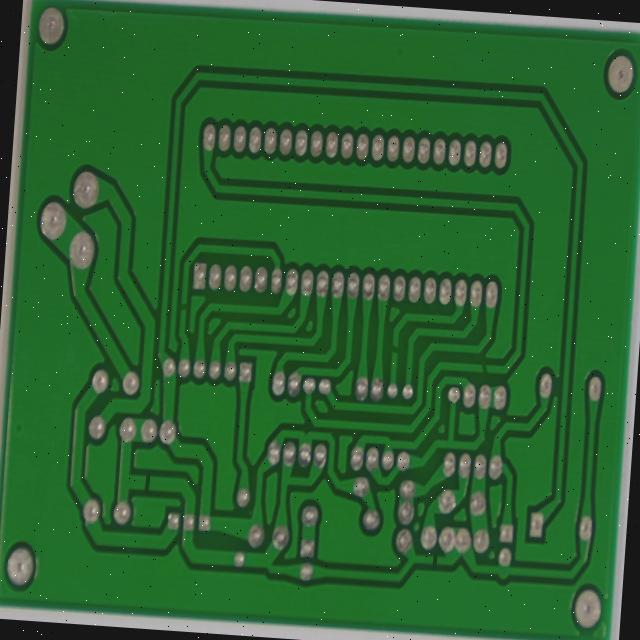open_circuit: (139, 469, 153, 495), (387, 338, 400, 358), (477, 357, 490, 377), (175, 296, 188, 315), (428, 552, 440, 568)
